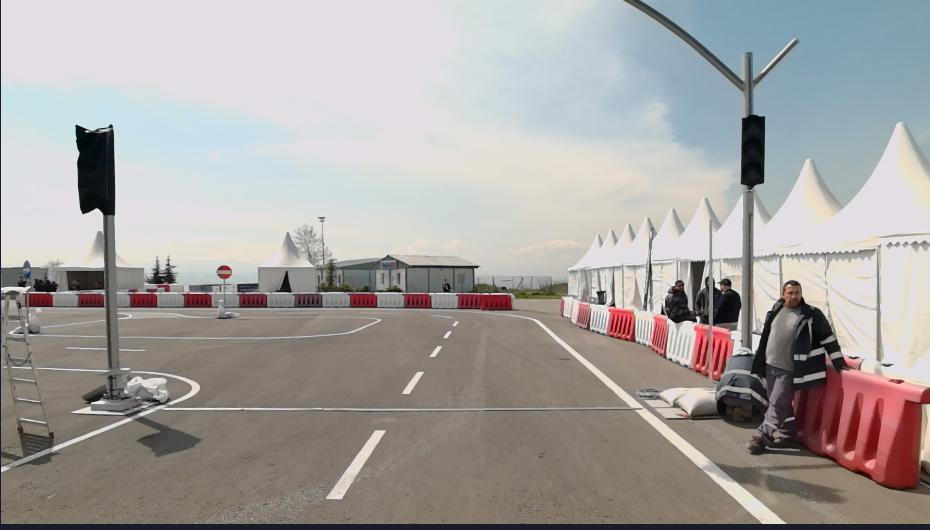nesne: (0, 310, 782, 522), (314, 311, 782, 521), (0, 313, 464, 523), (536, 319, 781, 525), (621, 0, 803, 109), (0, 373, 198, 472), (791, 359, 930, 484), (752, 280, 846, 457), (557, 290, 738, 377), (89, 212, 143, 412), (2, 284, 52, 434), (229, 291, 514, 311), (715, 346, 772, 419), (328, 427, 384, 499), (76, 123, 116, 214), (848, 355, 928, 387), (646, 389, 719, 424), (741, 186, 756, 345), (692, 327, 735, 380), (666, 320, 699, 368), (741, 112, 762, 187), (714, 277, 741, 329), (696, 274, 721, 328), (128, 374, 170, 400), (662, 280, 690, 317), (606, 309, 636, 341), (458, 294, 514, 311), (650, 316, 668, 354), (636, 313, 653, 351), (588, 307, 610, 335), (264, 291, 295, 309), (573, 300, 591, 330), (402, 367, 424, 391), (293, 289, 322, 307), (319, 291, 350, 307), (153, 291, 182, 308), (347, 290, 376, 307), (374, 291, 403, 308), (401, 291, 430, 308), (182, 293, 212, 308), (430, 293, 457, 309), (77, 291, 105, 306), (26, 307, 43, 331), (557, 294, 571, 323), (239, 293, 267, 307), (51, 291, 76, 306), (26, 291, 51, 304), (130, 293, 154, 306), (217, 262, 233, 279), (218, 304, 238, 317), (568, 298, 578, 321), (115, 292, 131, 306), (226, 292, 239, 307), (428, 344, 442, 356), (211, 292, 221, 308), (21, 258, 29, 276), (223, 279, 227, 306)
